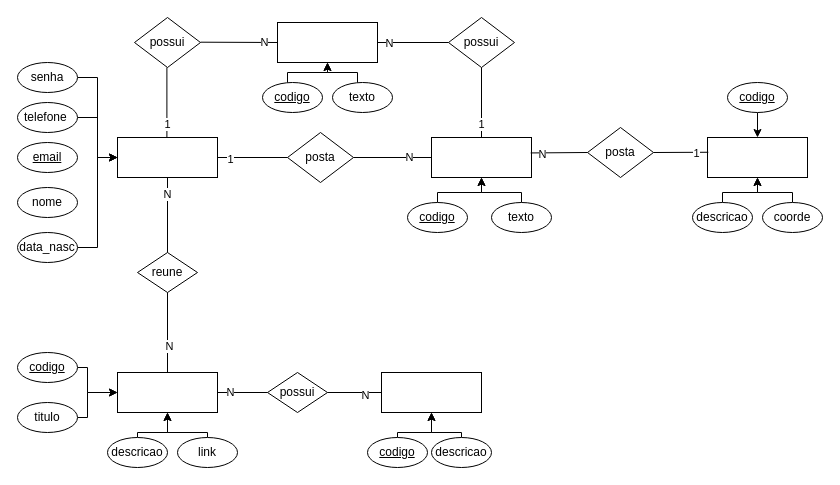
The diagram is 840 pixels wide and 485 high, and some of its shapes have lost their labels. The shapes that lost their labels are listed below. From the top down, each one's centre as x and y in pixels, then its label:
[327,42]: Comentários
[167,157]: Usuários
[481,157]: Postagens
[757,157]: Localizações
[167,392]: Grupos
[431,392]: Categorias
